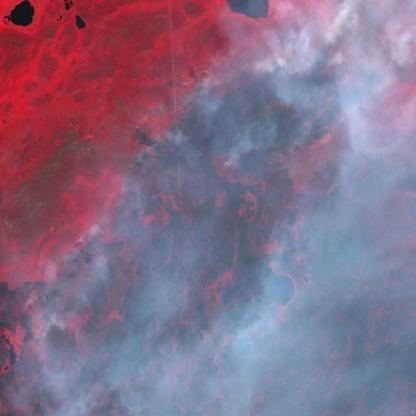fire: (181, 44, 288, 110), (115, 123, 150, 181), (53, 232, 89, 284)
